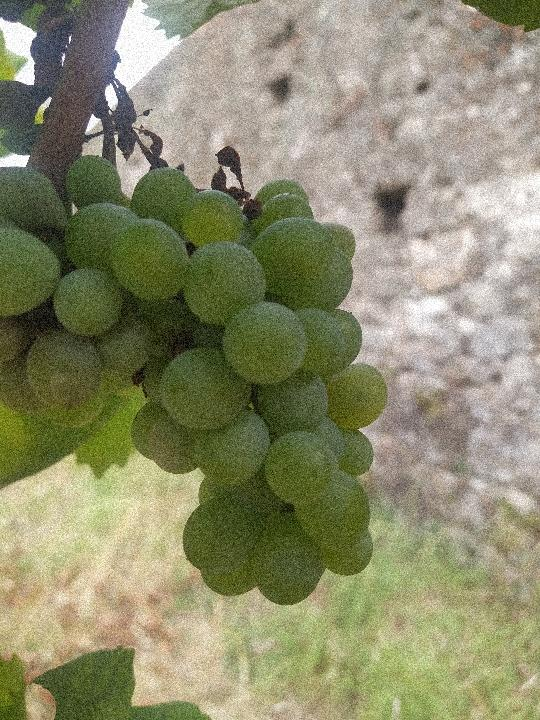grape: (0, 6, 391, 612)
